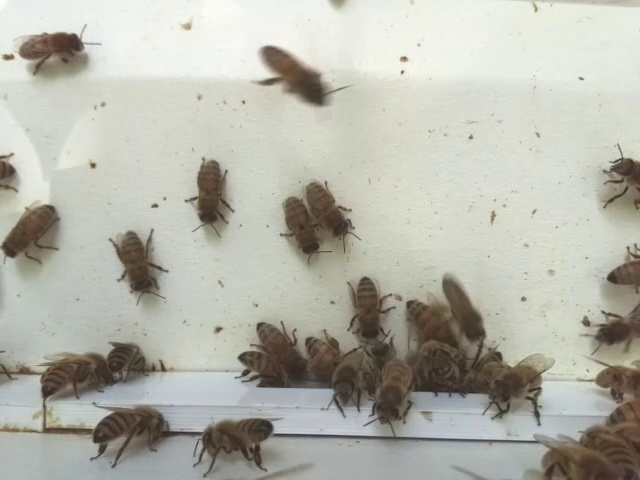bee: (250, 39, 358, 119), (189, 413, 290, 480), (84, 398, 175, 468), (521, 426, 628, 480), (179, 151, 240, 242), (1, 193, 70, 273), (12, 19, 108, 75), (485, 357, 559, 429), (270, 193, 338, 264), (104, 223, 167, 299), (438, 269, 493, 350), (305, 176, 362, 251), (343, 268, 397, 344), (571, 344, 640, 402), (580, 299, 640, 363), (598, 135, 640, 224), (37, 347, 105, 401), (399, 295, 461, 352), (254, 319, 308, 382), (372, 361, 415, 438), (229, 343, 289, 389), (416, 347, 467, 401), (326, 360, 366, 421), (106, 331, 151, 383), (605, 239, 640, 303), (300, 328, 345, 373), (1, 145, 29, 197)
